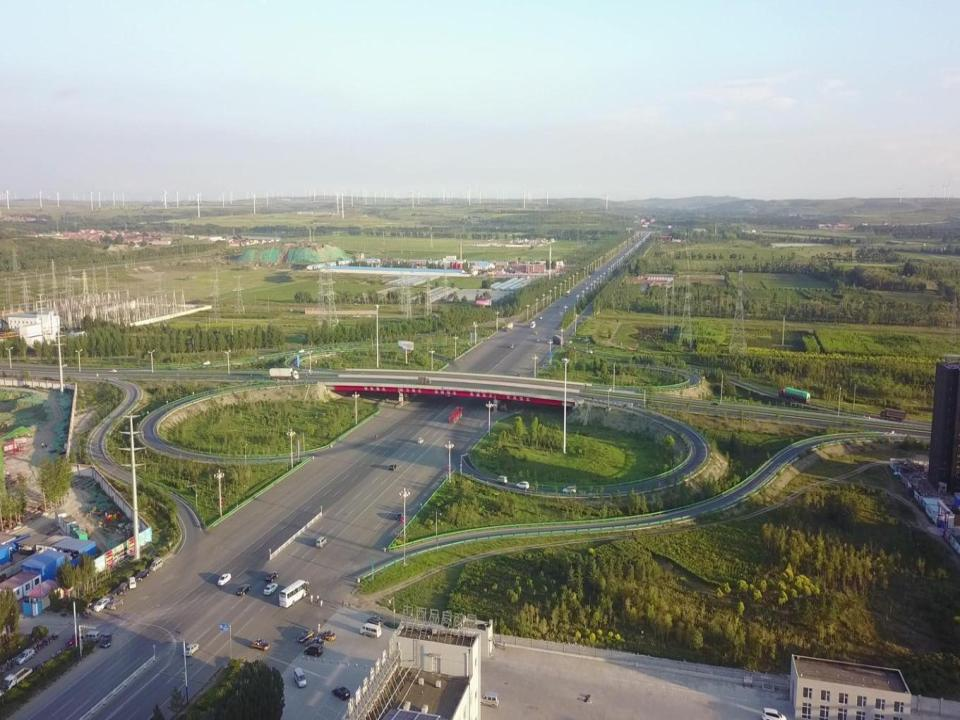bus: (279, 579, 309, 608), (529, 321, 536, 328), (566, 290, 570, 296)
car: (15, 648, 36, 664), (66, 630, 83, 647), (762, 708, 786, 720), (332, 685, 351, 700), (296, 628, 315, 643), (303, 644, 323, 657), (184, 642, 200, 657), (250, 638, 270, 650), (94, 598, 110, 612), (306, 636, 324, 648), (317, 629, 335, 641), (263, 582, 278, 596), (107, 598, 124, 610), (217, 572, 231, 586), (135, 569, 149, 582), (236, 584, 250, 596), (367, 615, 383, 625), (265, 570, 278, 582), (101, 634, 112, 647), (516, 480, 529, 489), (562, 486, 576, 494), (396, 511, 404, 521), (390, 463, 398, 471), (109, 368, 117, 374), (203, 360, 211, 366), (710, 402, 720, 406), (299, 349, 305, 354), (257, 355, 264, 359), (585, 349, 592, 353), (539, 315, 543, 320), (510, 344, 514, 348), (536, 338, 540, 342), (556, 304, 559, 308)
truck: (2, 666, 33, 692), (778, 386, 811, 405), (270, 367, 299, 380), (880, 406, 906, 420), (448, 406, 463, 423), (553, 334, 564, 346)
van: (360, 622, 382, 639), (479, 692, 499, 708), (294, 667, 306, 687), (83, 630, 100, 642), (149, 558, 163, 571), (118, 582, 128, 596), (316, 536, 327, 548), (499, 398, 508, 410), (129, 576, 136, 589), (497, 475, 507, 484), (417, 436, 424, 443)
